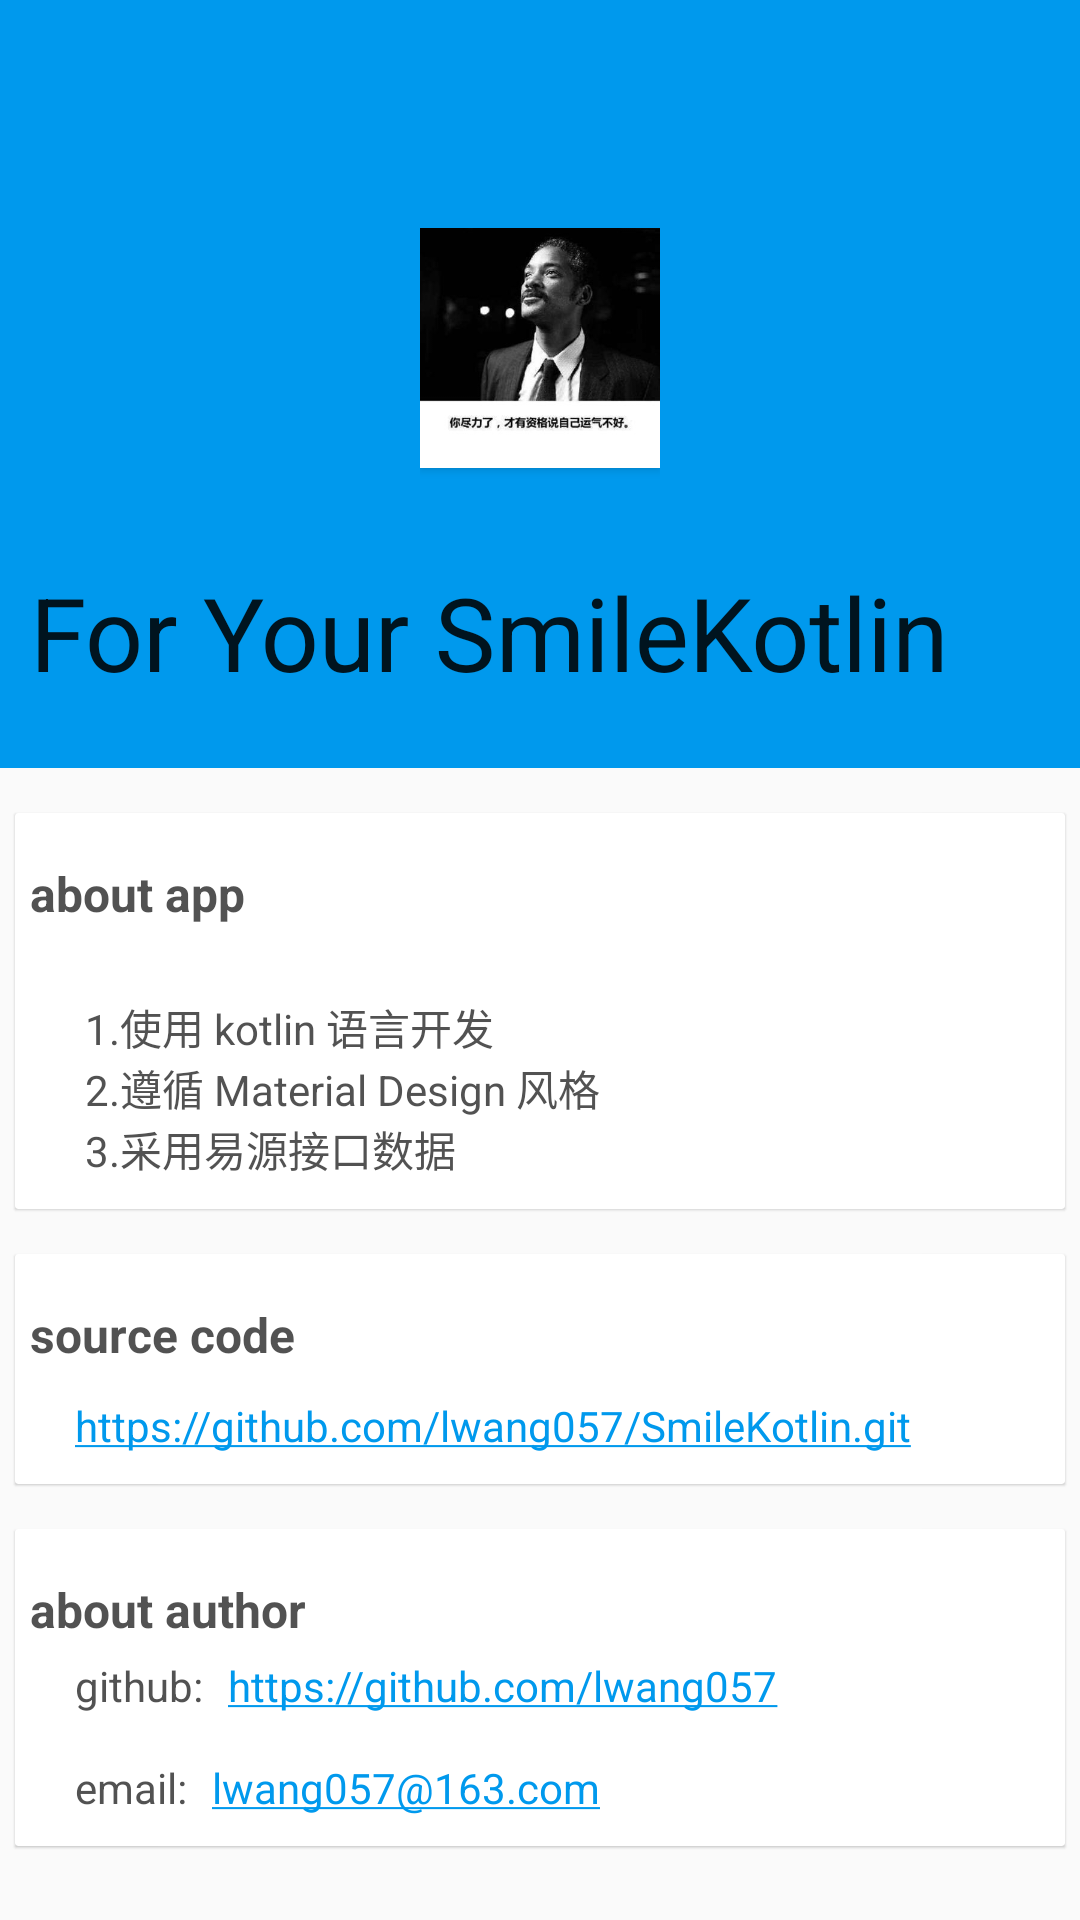

Locate icon controls on the screen. Image size 1080px x 1920px, boxes as [left=x1, top=y1, right=x2, bottom=y2].
head: [left=420, top=228, right=660, bottom=468]
